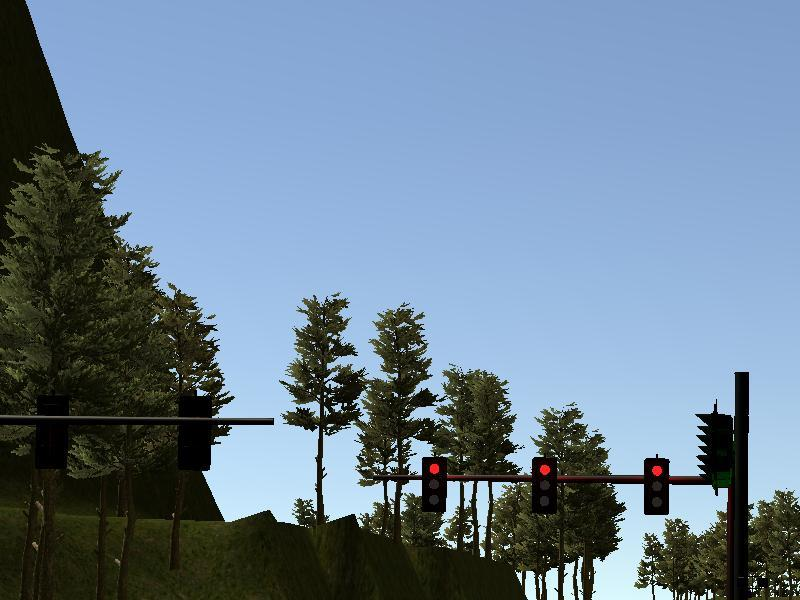Red: (645, 456, 670, 514), (533, 455, 557, 515), (421, 457, 447, 511)
